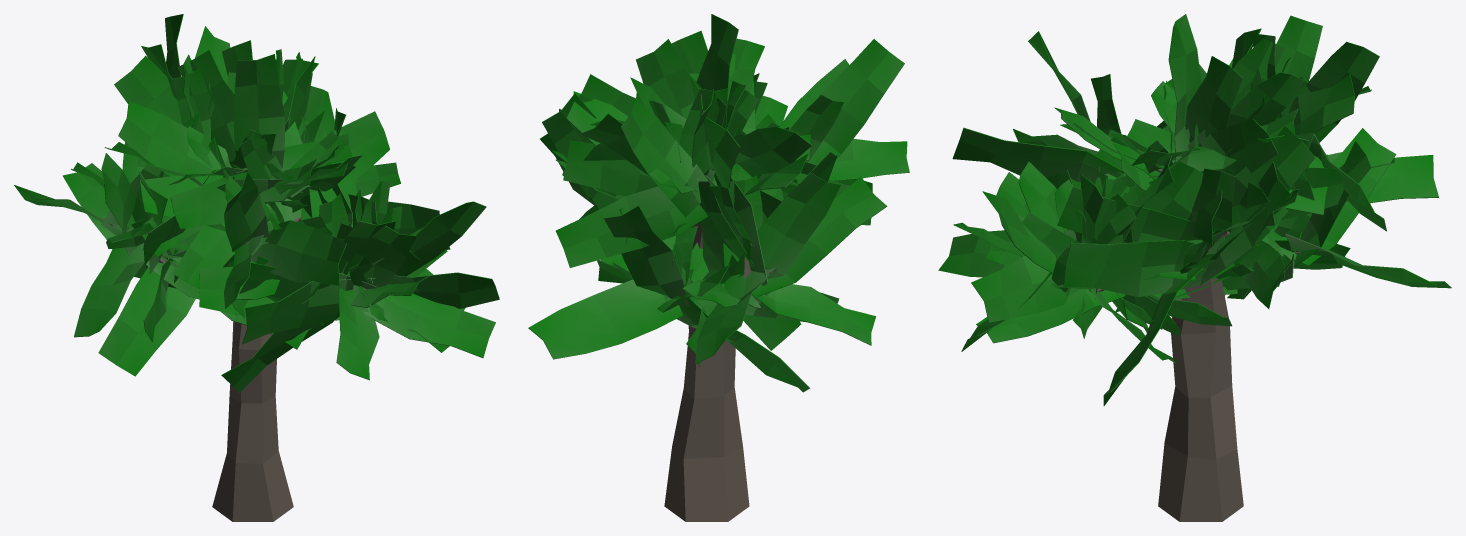
The model's file is Arvores01LOD.fbx.
3 views of the same model, side by side, from view 1: azimuth 30°, elevation 25°; view 2: azimuth 150°, elevation 25°; view 3: azimuth 270°, elevation 25° (orthographic). The views are drawn at different scales.
Visible parts, largest first — view 1: Arvore01_LOD0; view 2: Arvore01_LOD0; view 3: Arvore01_LOD0.
Boxes of the visible parts, box(x1,y1,x2,y2) form: Arvore01_LOD0: box(14, 14, 499, 521); Arvore01_LOD0: box(528, 14, 909, 521); Arvore01_LOD0: box(938, 14, 1451, 521).
Size of what is drawn, in the model's own units: 571 by 733 by 705.
